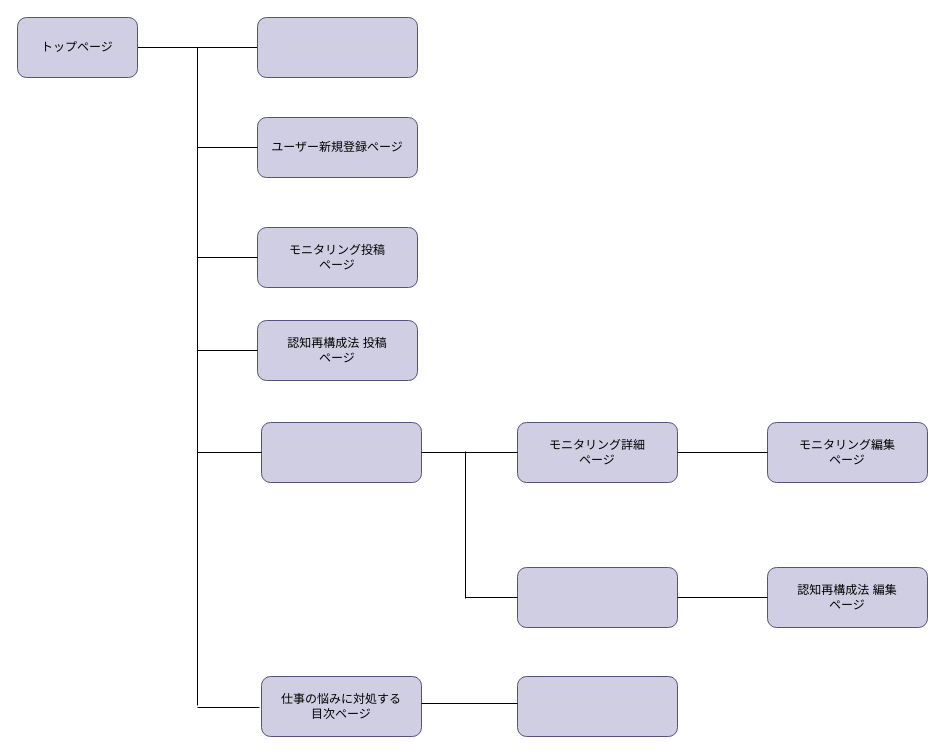
This 945x754 diagram has some shape labels left out. Each missing label, with the box of its shape:
ユーザーログインページ: (256, 16, 418, 78)
各ガイドページ: (516, 676, 678, 736)
投稿一覧 ページ: (260, 422, 422, 482)
認知再構成法 詳細 ページ: (516, 566, 678, 628)
